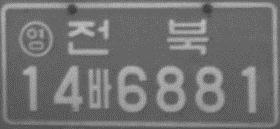1: (236, 64, 265, 114), (17, 64, 47, 111)
4: (52, 63, 84, 113)
6: (116, 64, 147, 112)
8: (154, 64, 186, 113), (193, 64, 225, 113)
바: (86, 68, 112, 110)
영: (17, 20, 53, 58)
전북_D: (66, 18, 209, 56)
